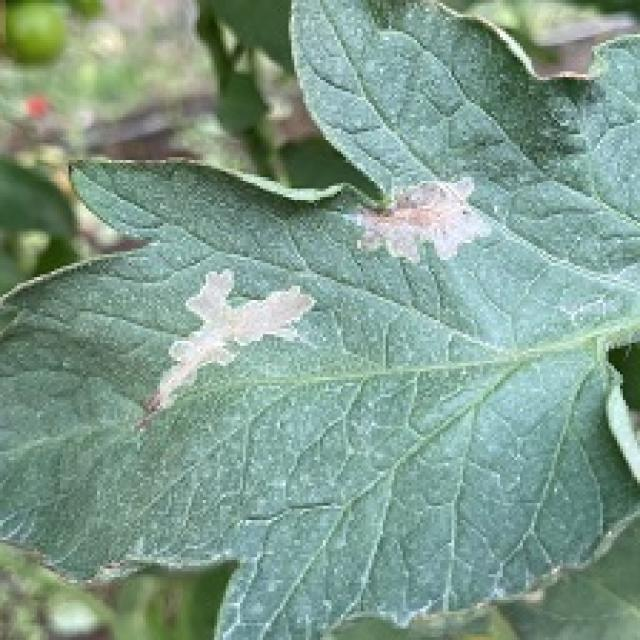Tuta absoluta: (113, 233, 324, 413), (345, 163, 496, 290)
